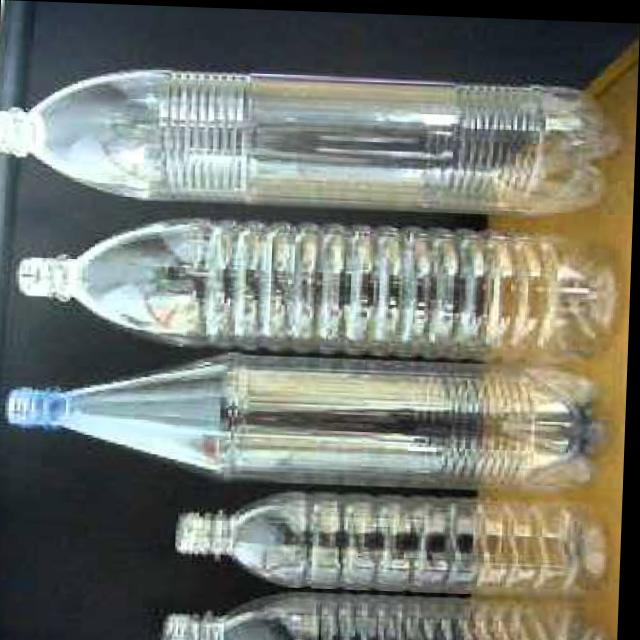bottle: (0, 63, 625, 217), (14, 211, 625, 361), (6, 349, 610, 489), (174, 487, 614, 597), (162, 584, 612, 640)
